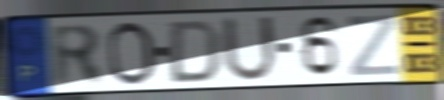6: (298, 14, 339, 80)
D: (166, 18, 224, 85)
O: (104, 20, 159, 88)
R: (48, 23, 108, 89)
U: (219, 14, 280, 85)
Z: (345, 12, 400, 78)
